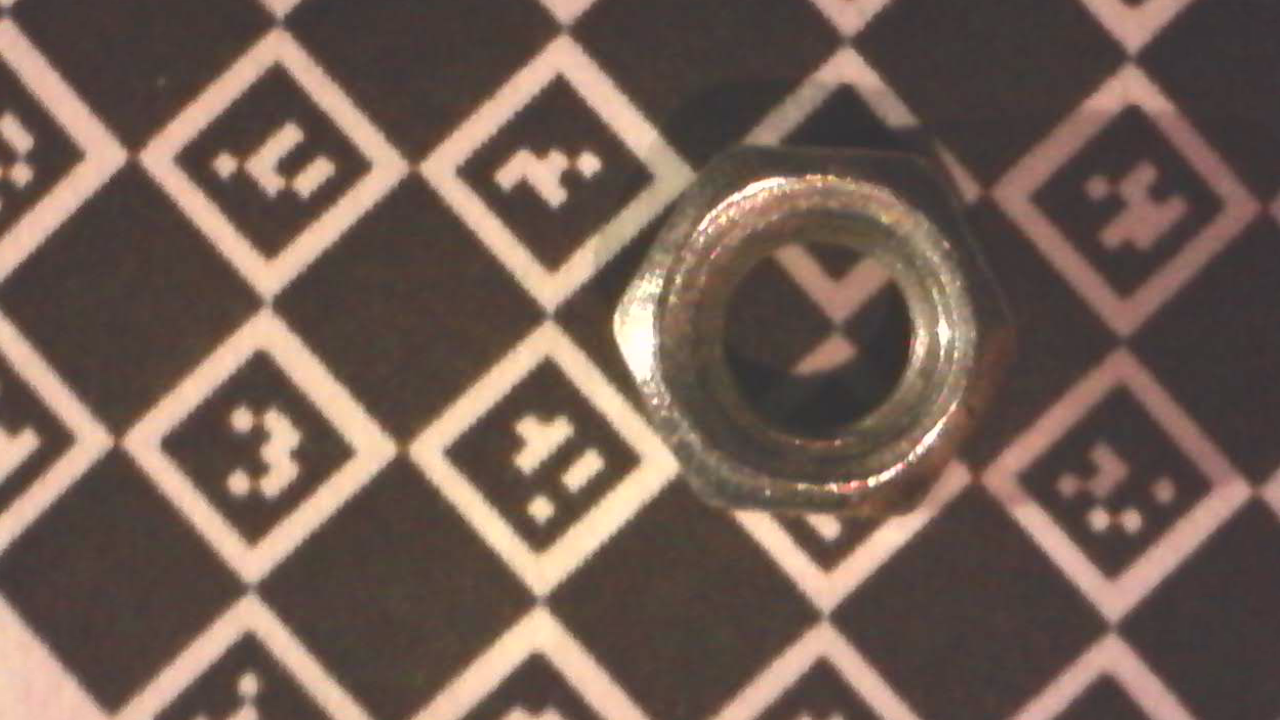Bolt: (607, 142, 1022, 520)
